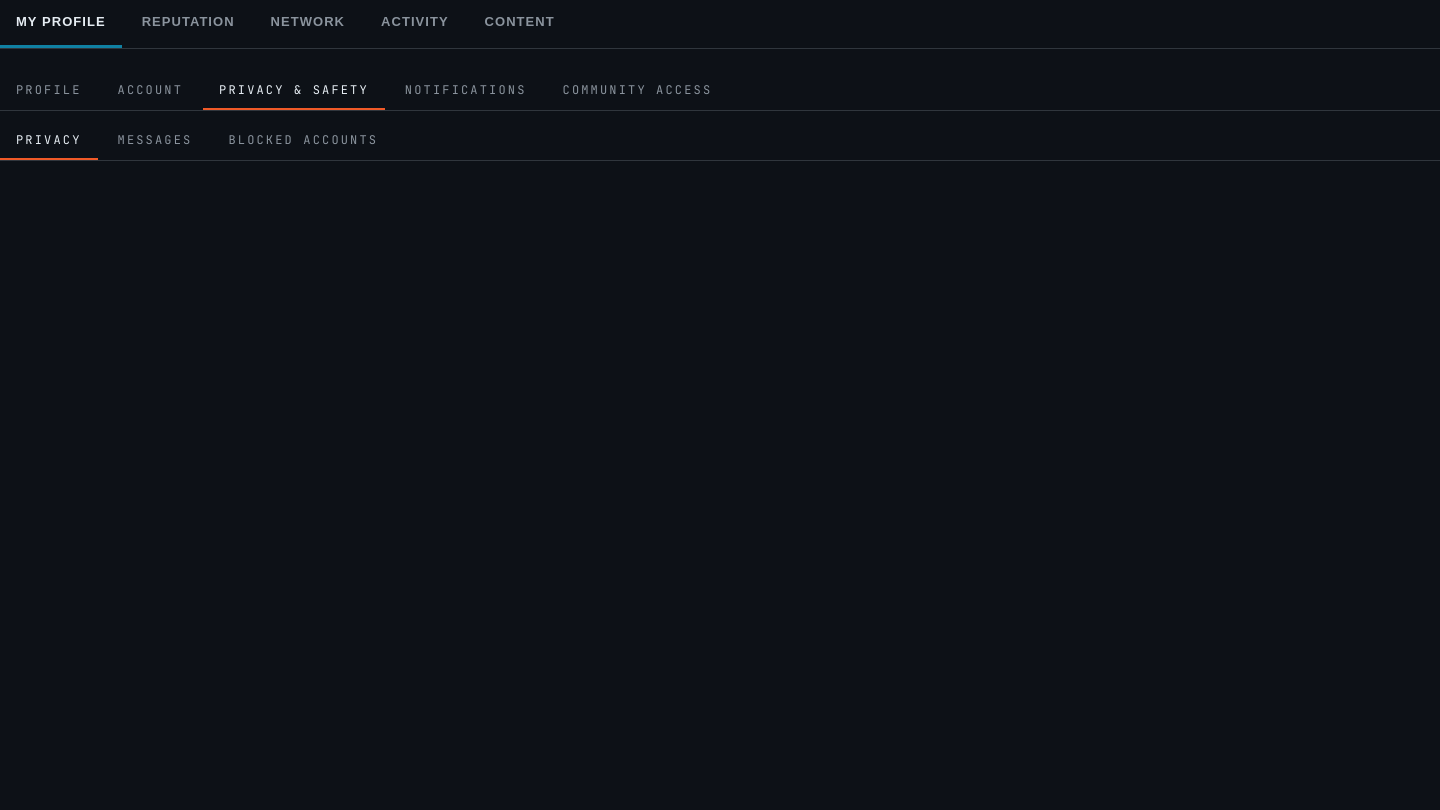
Test: a dirty form survives every navigation path › CHILD click is guarded
Click the tab "MESSAGES".
click(155, 142)  # box x1=102 y1=123 x2=208 y2=160
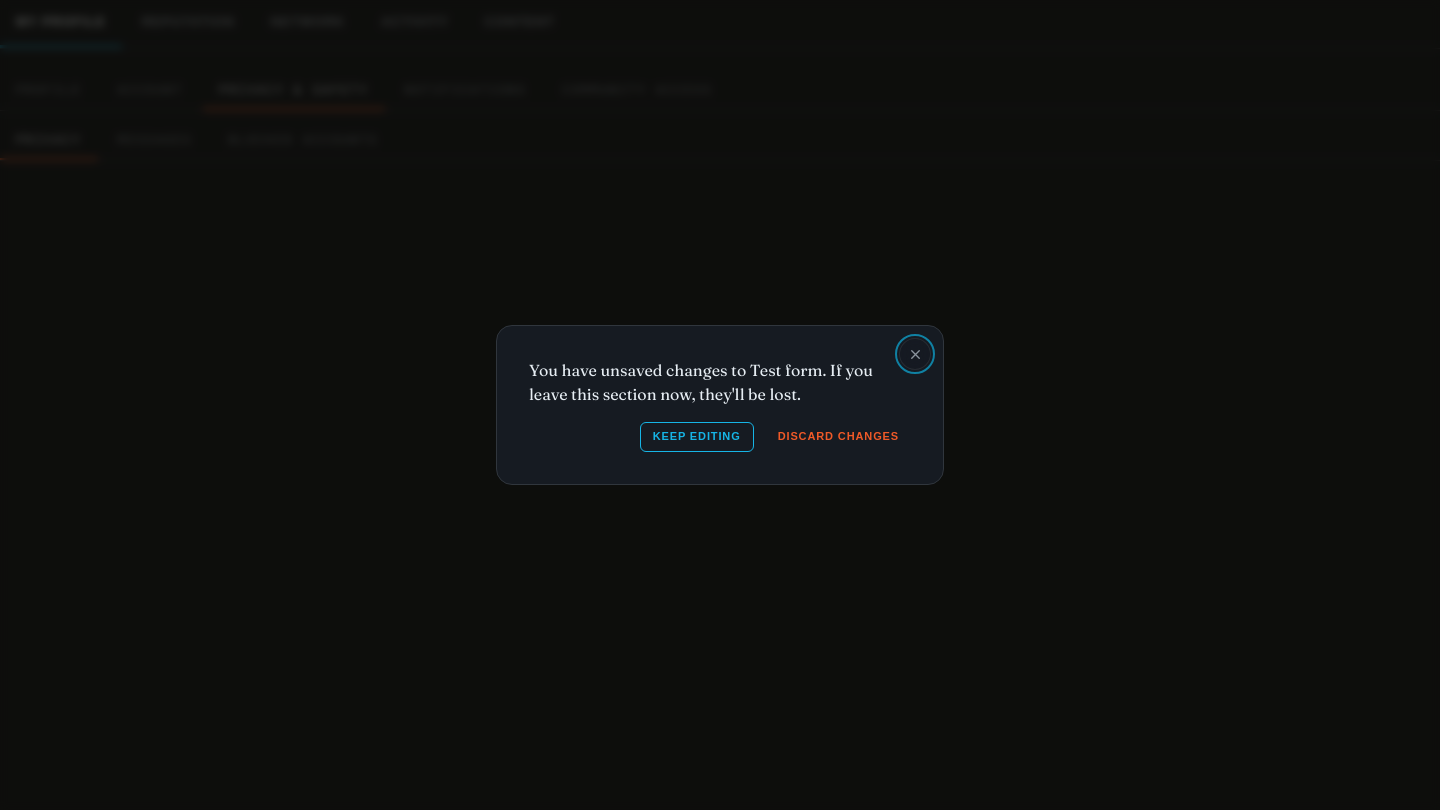
expect the dialog is shown: met
